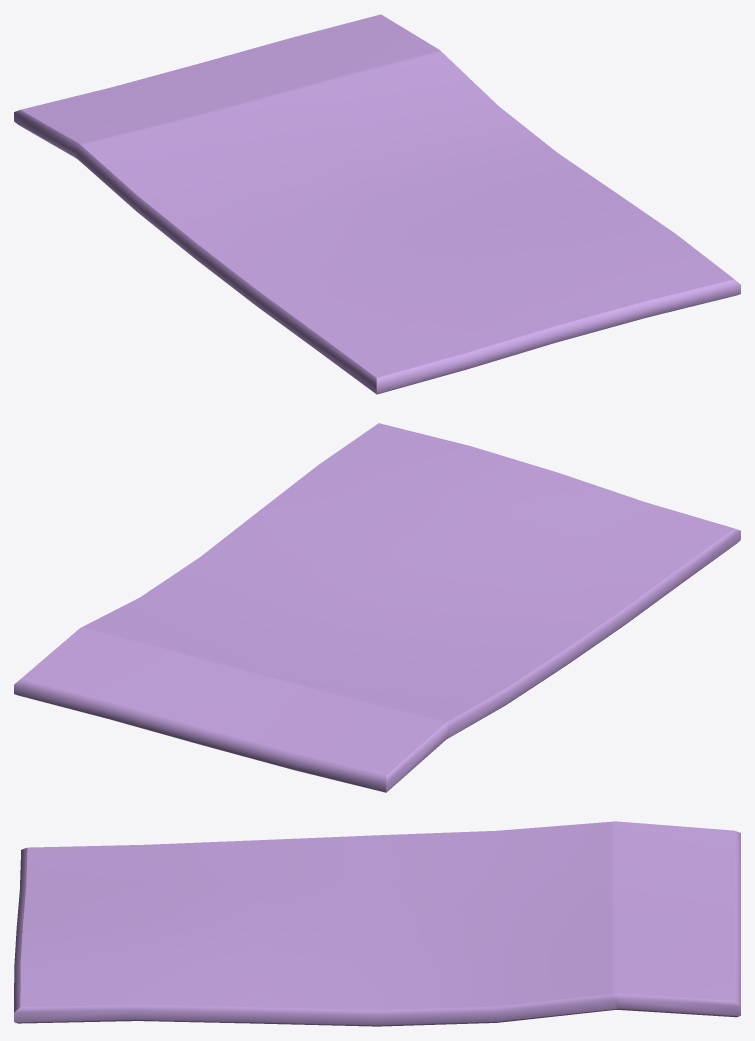
File: Friday_Letter_v2.fbx
3 renders of one model, top to bottom at view 1: azimuth 30°, elevation 25°; view 2: azimuth 150°, elevation 25°; view 3: azimuth 270°, elevation 25°, orthographic.
Visible parts, largest first — view 1: Letter; view 2: Letter; view 3: Letter.
Boxes of the visible parts, x1,y1,x2,y2 form: Letter: [14, 14, 740, 394]; Letter: [14, 423, 740, 792]; Letter: [14, 821, 740, 1026].
Bounding box in the file's own units: 36.63 × 4.19 × 62.17.
